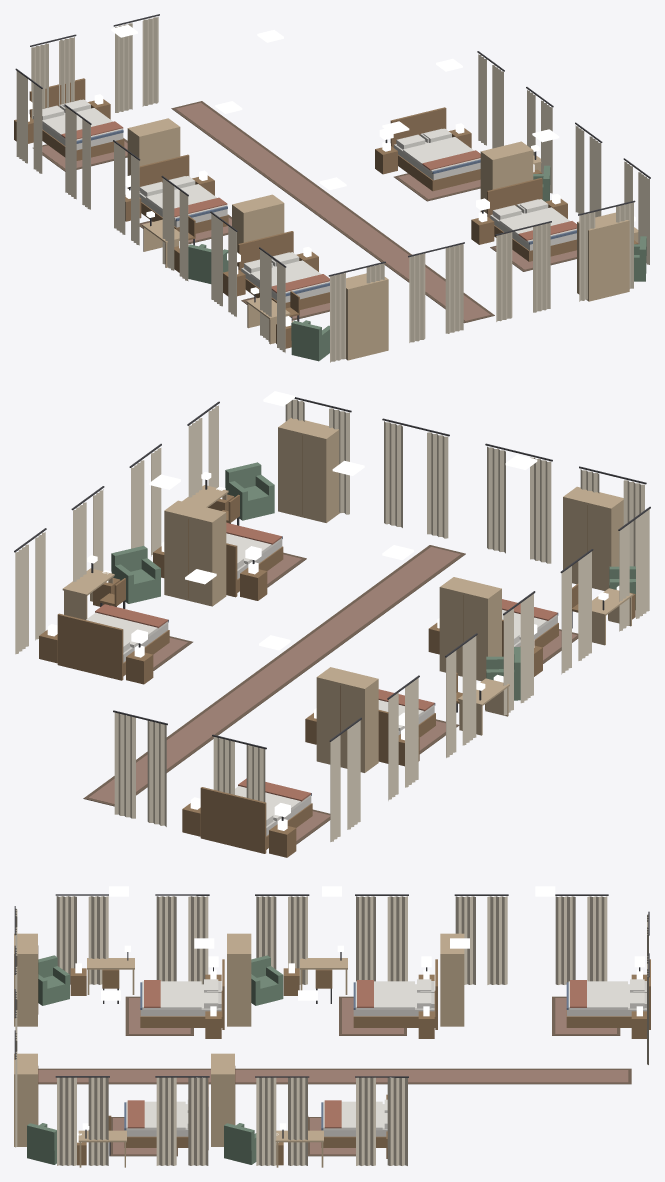
File: fine-s1.glb
3 renders of one model, top to bottom at view 1: azimuth 30°, elevation 25°; view 2: azimuth 150°, elevation 25°; view 3: azimuth 270°, elevation 25°, orthographic. The views are drawn at different scales.
Parts seen in each view (by area): view 1: soft-s1, dresser.001, dresser.004, bed-frame.000, bed-frame.001, bed-frame.004, dresser.000, dresser.002, bed-frame.003, dresser.003, bed-frame.002, lounge-chair.003 (+6 smaller); view 2: soft-s1, dresser.001, dresser.000, dresser.002, dresser.003, dresser.004, bed-frame.000, bed-frame.002, lounge-chair.001, lounge-chair.000, writing-desk.000, writing-desk.002 (+8 smaller); view 3: soft-s1, dresser.003, dresser.002, dresser.004, dresser.000, dresser.001, bed-frame.004, bed-frame.003, bed-frame.002, lounge-chair.002, lounge-chair.003, lounge-chair.000 (+12 smaller).
Boxes of the visible parts, <box> form: soft-s1: <box>15,14,650,362</box>; dresser.001: <box>577,212,629,301</box>; dresser.004: <box>345,273,388,360</box>; bed-frame.000: <box>390,107,480,191</box>; bed-frame.001: <box>487,178,576,261</box>; bed-frame.004: <box>238,231,329,309</box>; dresser.000: <box>480,141,533,213</box>; dresser.002: <box>127,118,180,188</box>; bed-frame.003: <box>139,154,228,233</box>; dresser.003: <box>232,194,284,266</box>; bed-frame.002: <box>29,78,124,160</box>; lounge-chair.003: <box>291,320,329,361</box>; soft-s1: <box>14,397,650,844</box>; dresser.001: <box>278,417,339,522</box>; dresser.000: <box>164,500,226,606</box>; dresser.002: <box>316,667,378,772</box>; dresser.003: <box>439,577,501,681</box>; dresser.004: <box>563,486,623,590</box>; bed-frame.000: <box>57,613,169,680</box>; bed-frame.002: <box>200,787,312,853</box>; lounge-chair.001: <box>225,462,274,520</box>; lounge-chair.000: <box>111,545,160,603</box>; writing-desk.000: <box>62,555,114,619</box>; writing-desk.002: <box>458,678,509,735</box>; soft-s1: <box>14,894,649,1165</box>; dresser.003: <box>227,933,251,1026</box>; dresser.002: <box>440,933,464,1026</box>; dresser.004: <box>14,933,38,1026</box>; dresser.000: <box>211,1053,235,1146</box>; dresser.001: <box>14,1053,38,1146</box>; bed-frame.004: <box>140,959,224,1029</box>; bed-frame.003: <box>353,959,437,1029</box>; bed-frame.002: <box>566,959,650,1029</box>; lounge-chair.002: <box>251,955,283,1005</box>; lounge-chair.003: <box>38,955,69,1005</box>; lounge-chair.000: <box>224,1123,256,1164</box>.
Size of the model in its own units: 10.78 by 3.69 by 15.86.
